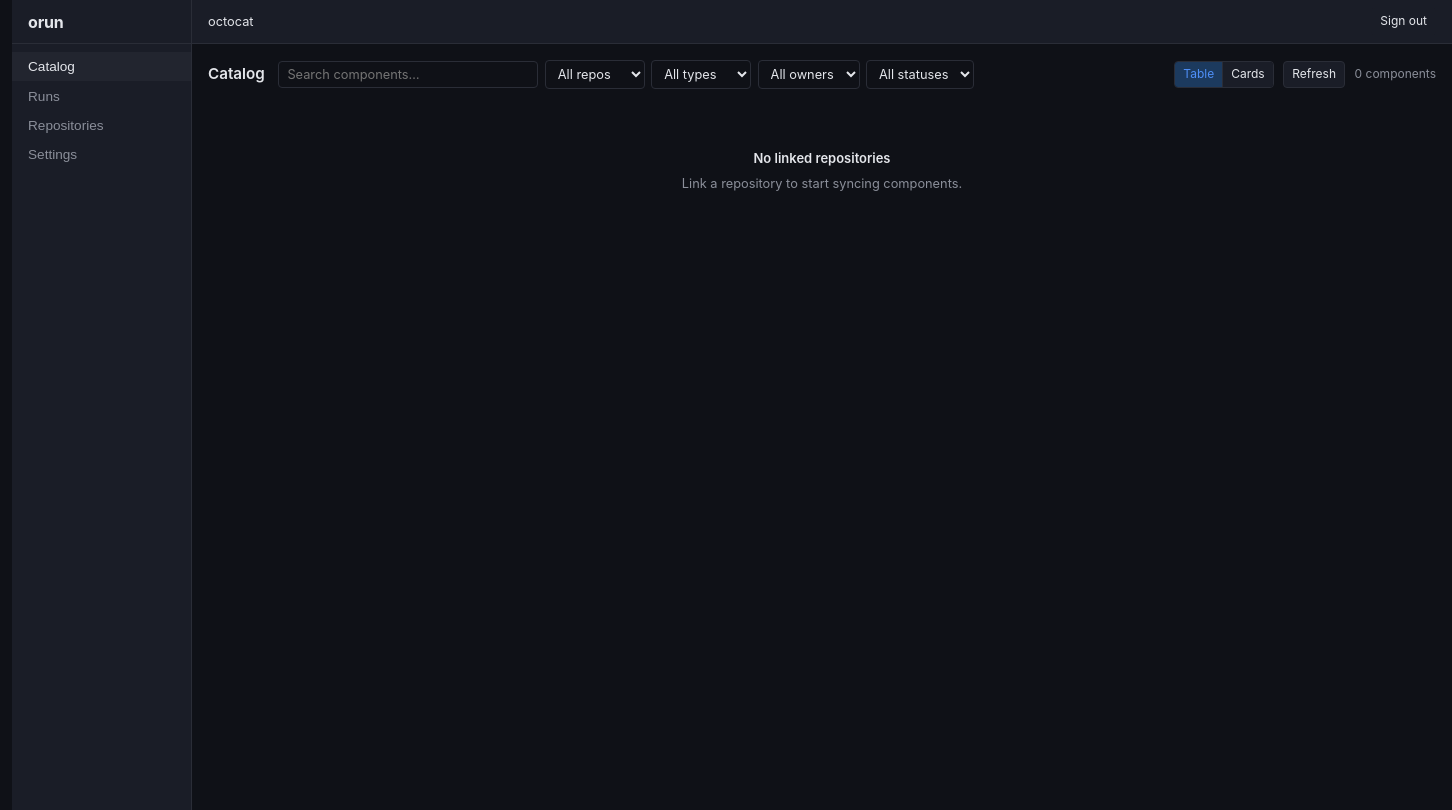
Scenario: App — authenticated shell › navigates to Runs view when Runs nav item clicked
Click the button "Runs": (102, 96) [12,81,191,111]
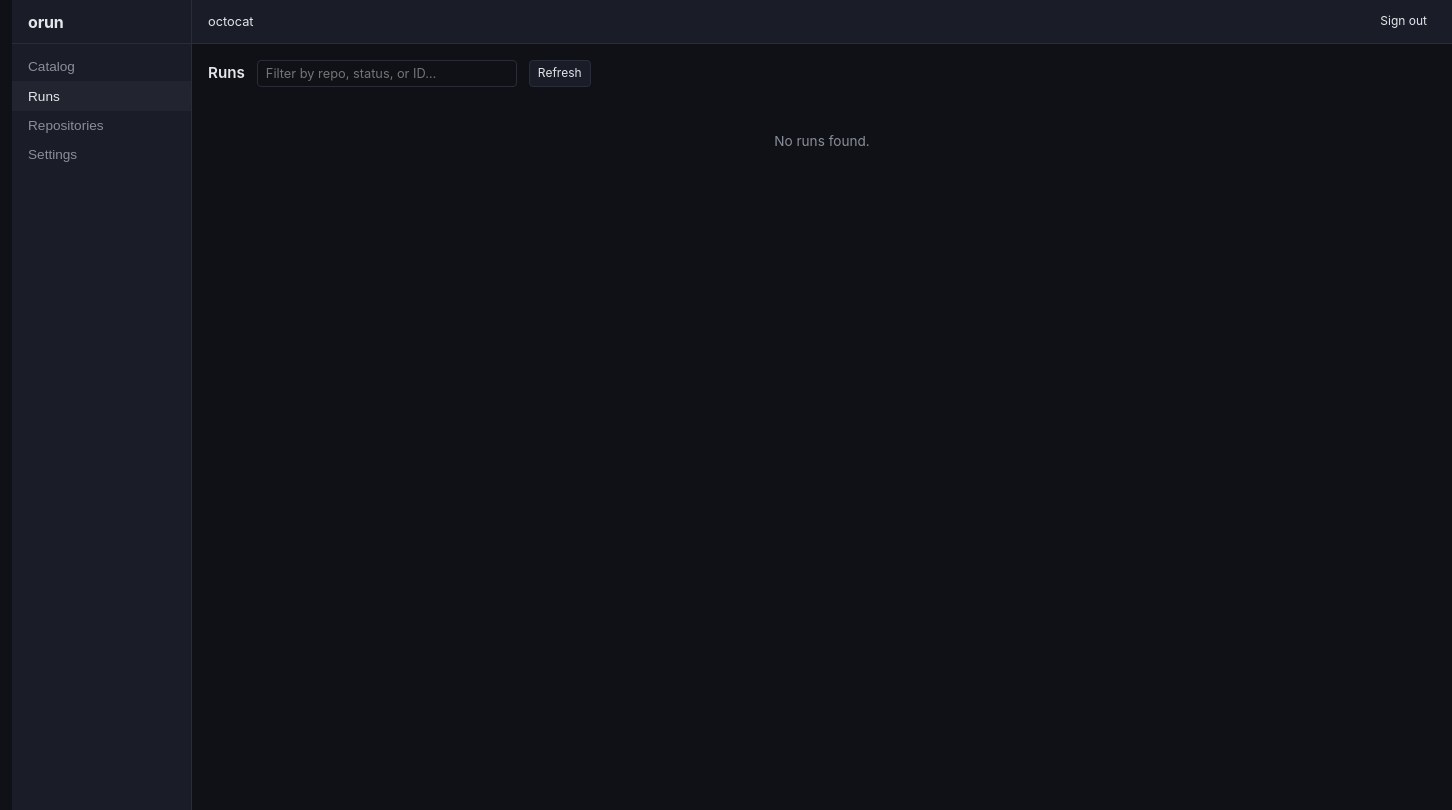
Check: the text "No runs found." is shown, box [774,133,870,149]
